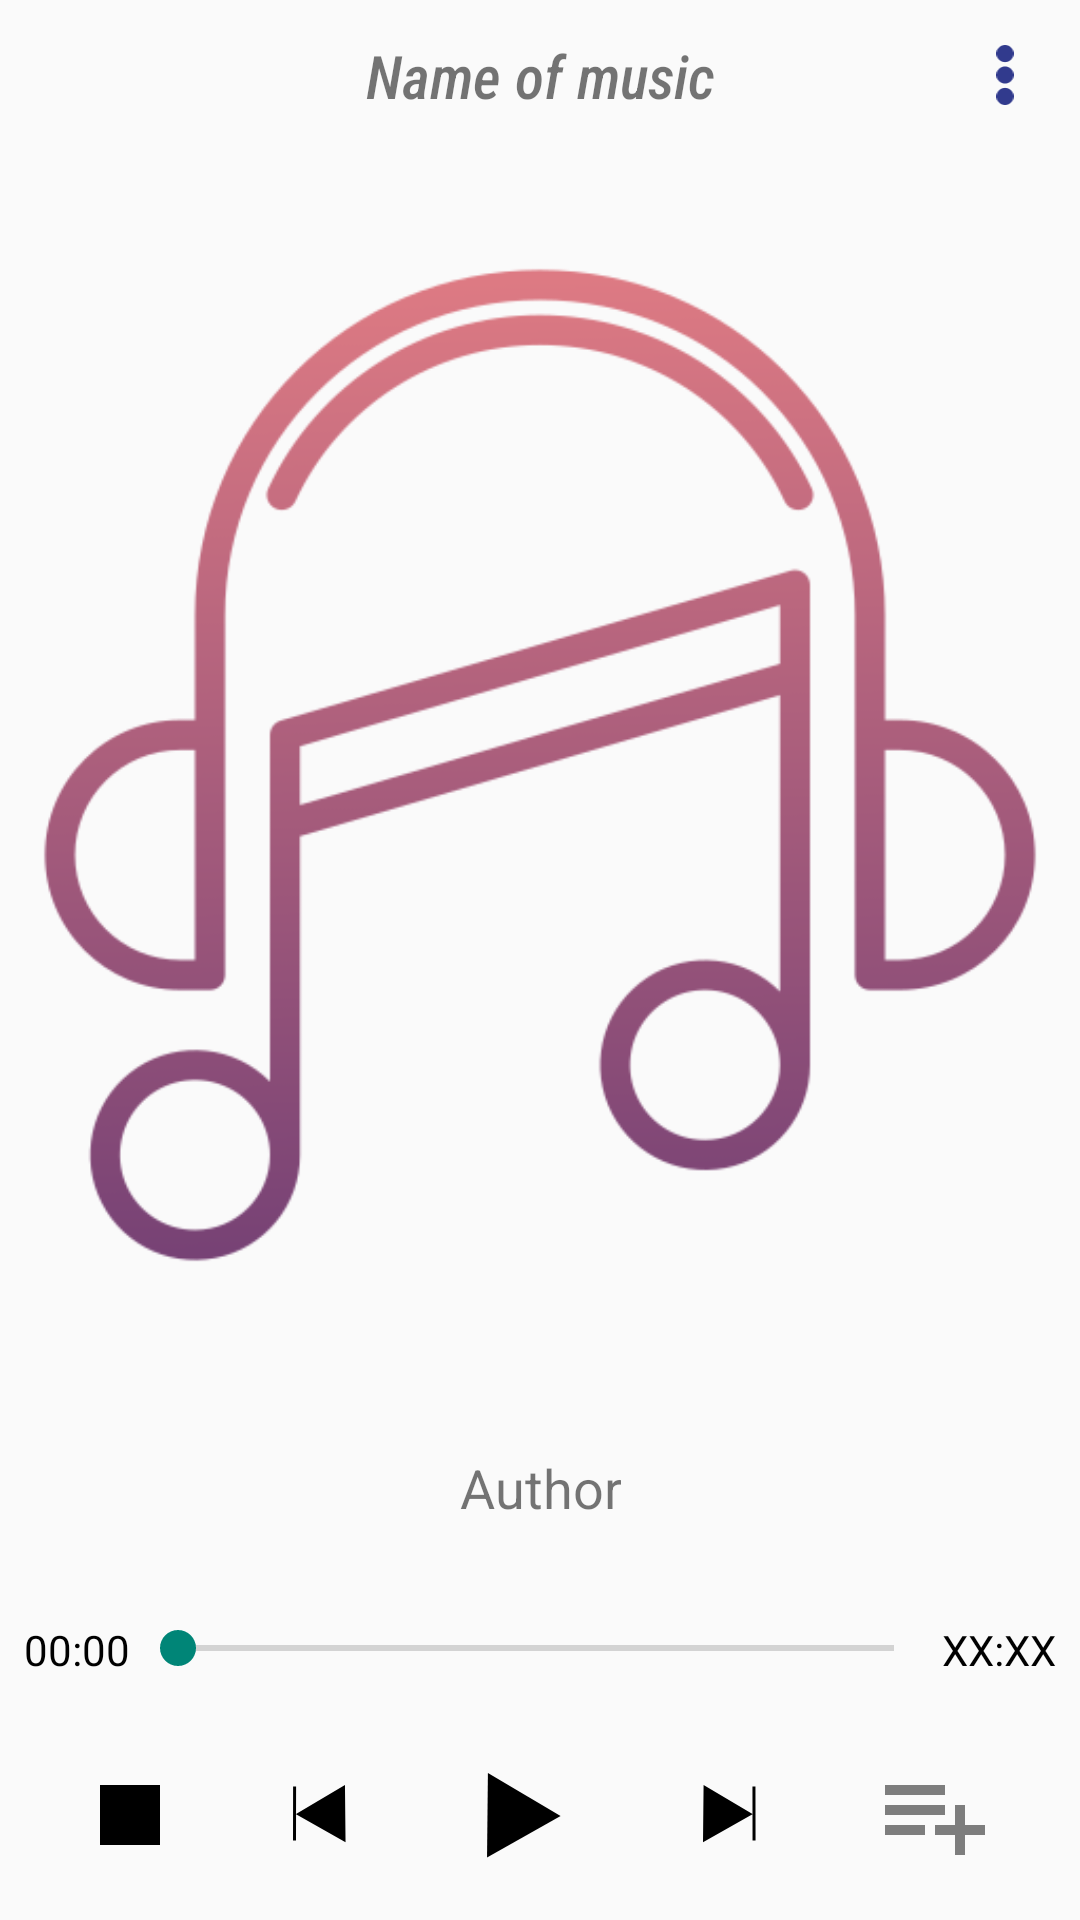

Where to tap for icons on this 1080px×1920px app screen, as [x,y]:
next: [729,1813]
play: [524,1815]
playlist add: [935,1820]
previous: [319,1813]
setting: [1005,75]
